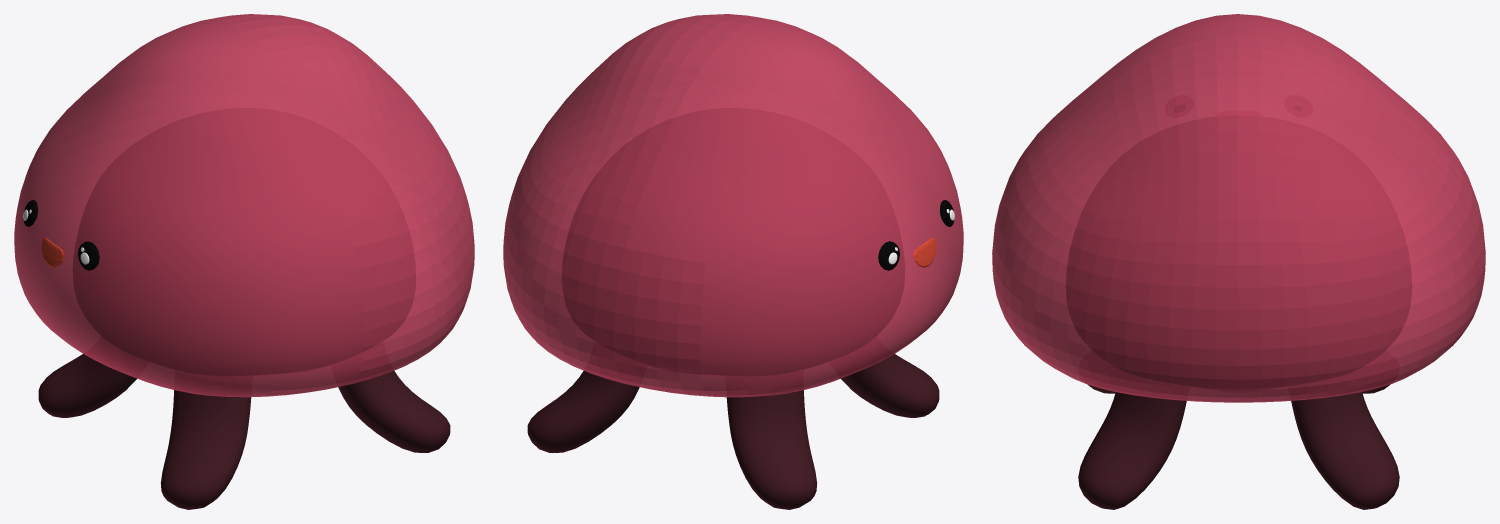
Rendered from Warm.fbx.
The picture shows the model from 3 angles, left to right: view 1: azimuth 30°, elevation 25°; view 2: azimuth 150°, elevation 25°; view 3: azimuth 270°, elevation 25°; orthographic projection. The views are drawn at different scales.
Parts seen in each view (by area): view 1: Cube.002, Cube.001, Plane.001; view 2: Cube.002, Cube.001, Plane.001; view 3: Cube.002, Cube.001.
Part boxes in pixels (x1=…): Cube.002: x1=14, y1=14, x2=474, y2=397; Cube.001: x1=38, y1=108, x2=450, y2=509; Plane.001: x1=24, y1=200, x2=99, y2=270; Cube.002: x1=503, y1=14, x2=963, y2=397; Cube.001: x1=527, y1=108, x2=939, y2=509; Plane.001: x1=878, y1=200, x2=953, y2=270; Cube.002: x1=992, y1=14, x2=1485, y2=402; Cube.001: x1=1066, y1=116, x2=1411, y2=509.
Size of the model in its own units: 141 by 138 by 150.
